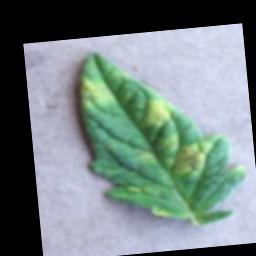Leaf_Mold: (77, 71, 122, 110), (169, 139, 216, 176), (138, 94, 177, 128), (150, 204, 173, 218), (139, 149, 156, 163)
